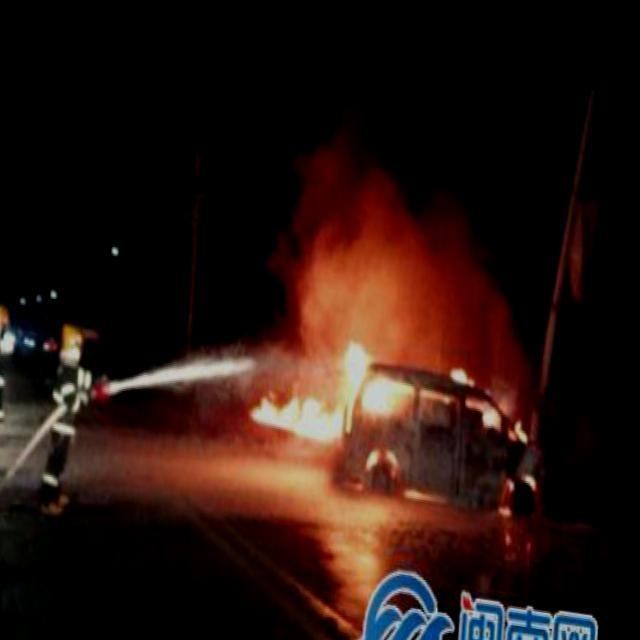Fire: (253, 312, 548, 518)
